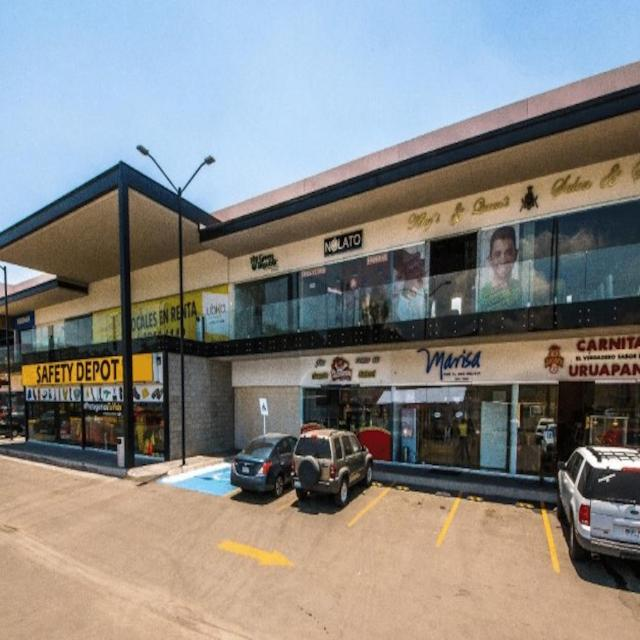discapacitados: (176, 460, 236, 490)
libre: (459, 483, 546, 580), (395, 475, 448, 563)
ocupado: (550, 434, 640, 597), (243, 420, 369, 508)
